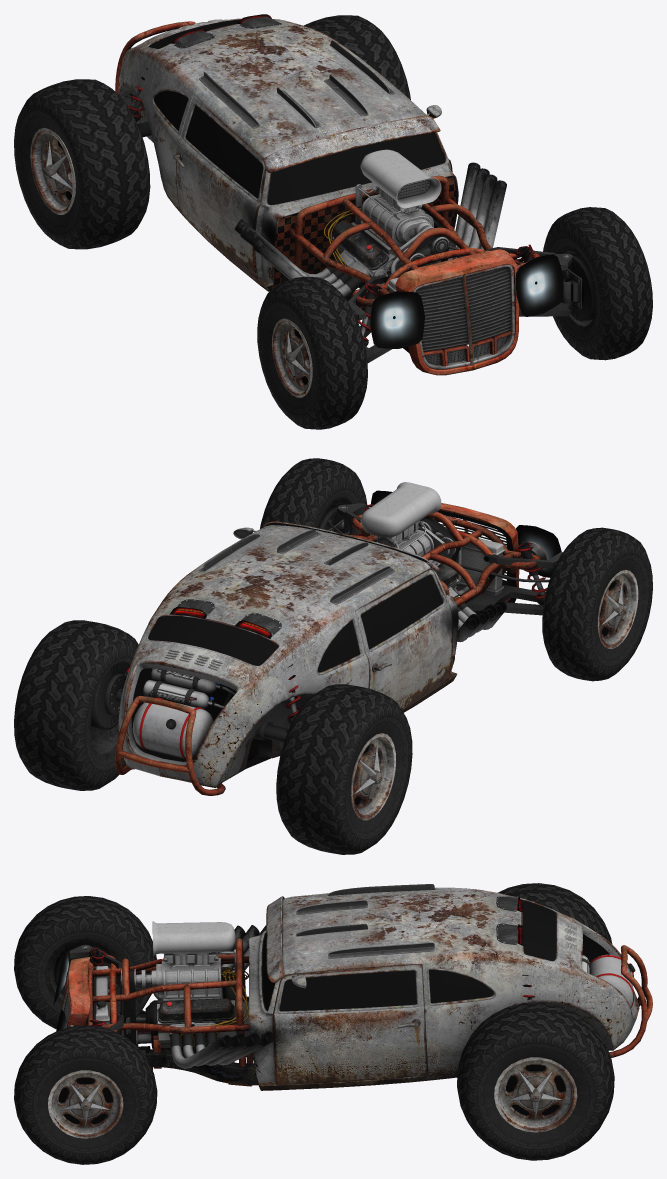
File: Raider.fbx
3 views of the same model, one above another, from view 1: azimuth 30°, elevation 25°; view 2: azimuth 150°, elevation 25°; view 3: azimuth 270°, elevation 25° (orthographic). The views are drawn at different scales.
Parts seen in each view (by area): view 1: Body, BR, FR, FL, BL; view 2: Body, BR, BL, FR, FL; view 3: Body, BL, FL, FR, BR.
Part boxes in pixels (bbox=[...]): Body: bbox=[115, 14, 595, 375]; BR: bbox=[14, 79, 150, 249]; FR: bbox=[257, 276, 367, 429]; FL: bbox=[543, 207, 652, 360]; BL: bbox=[304, 15, 410, 99]; Body: bbox=[91, 482, 562, 795]; BR: bbox=[276, 684, 412, 854]; BL: bbox=[14, 620, 138, 790]; FR: bbox=[542, 527, 652, 681]; FL: bbox=[260, 458, 367, 535]; Body: bbox=[53, 884, 652, 1090]; BL: bbox=[457, 1002, 614, 1160]; FL: bbox=[14, 1025, 157, 1164]; FR: bbox=[14, 896, 156, 1029]; BR: bbox=[497, 883, 612, 943].
Size of the model in its own units: 4320 by 2413 by 7610.
